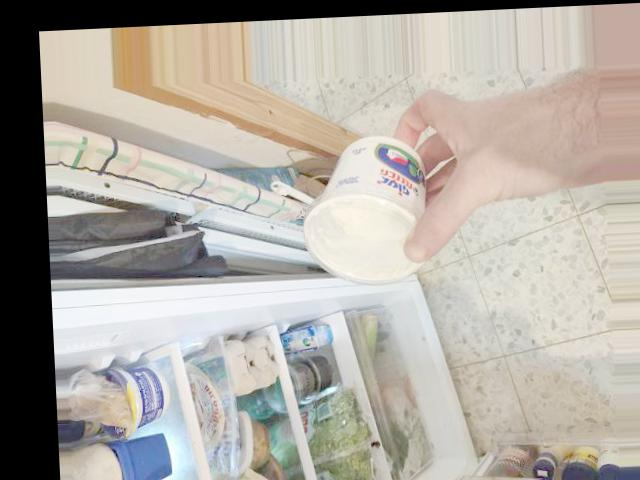cotage: (310, 139, 426, 262)
